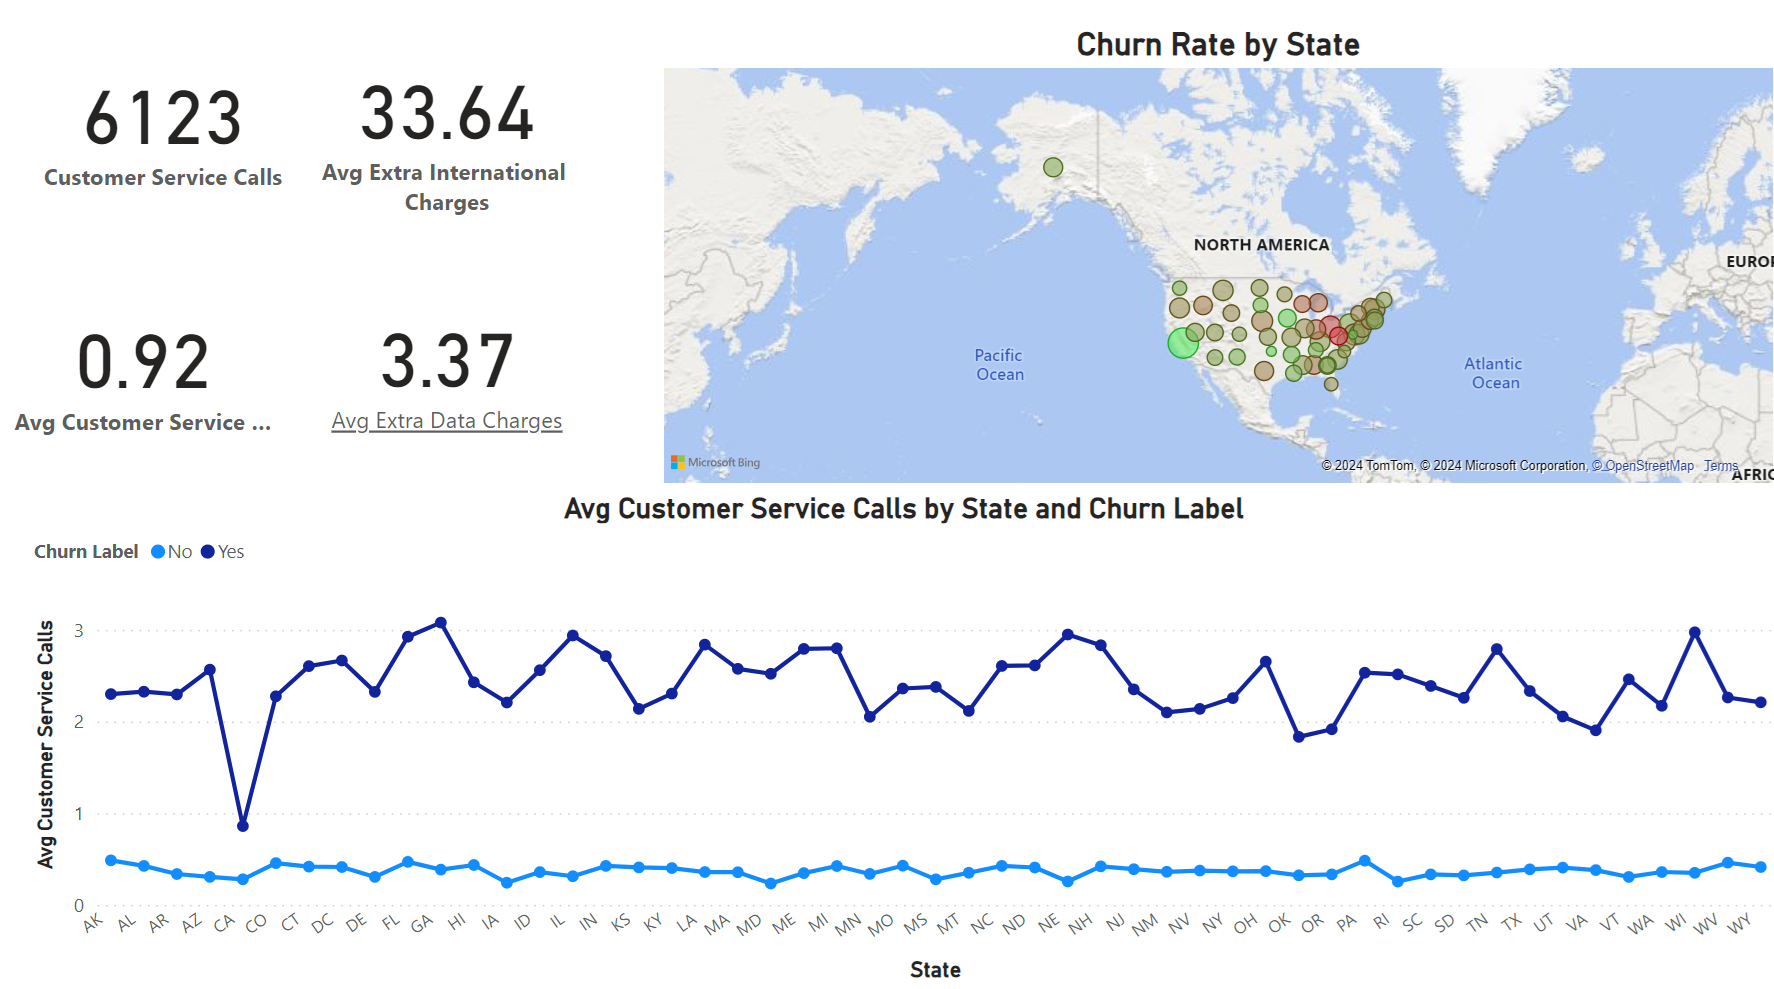

What the dashboard file says about the page in this screenshot:
{"tool":"powerbi","page":{"name":"Insight2","canvas":[1280,720],"ordinal":9},"visuals":[{"type":"card","fields":{"Values":["Sum(Databel - Data.Customer Service Calls)"]},"box":[27.6,6.1,194.4,182.2],"z":0},{"type":"card","fields":{"Values":["Databel - Data.Avg Customer Service Calls"]},"box":[12.2,186.8,194.4,168.4],"z":1000},{"type":"card","fields":{"Values":["Databel - Data.Avg Extra International Charges"]},"box":[222,0,211.3,186.8],"z":2000},{"type":"card","fields":{"Values":["Databel - Data.Avg Extra Data Charges"]},"box":[209.8,165.4,234.3,209.8],"z":3000},{"type":"lineChart","fields":{"Category":["Databel - Data.State"],"Y":["Databel - Data.Avg Customer Service Calls"],"Series":["Databel - Data.Churn Label"]},"box":[27.2,359.9,1252.8,355],"z":4000},{"type":"map","fields":{"Category":["Databel - Data.State"],"Size":["Databel - Data.Churn Rate"]},"box":[477.7,27.6,802.3,332.2],"z":5000}]}

Visuals, with their boxes in screenshot pixels (x1, y1, x2, y2), scaled from the page's 1280x720 canvas onto the 1774x989 screenshot:
card - Sum(Databel - Data.Customer Service Calls): 38,8,308,259
card - Databel - Data.Avg Customer Service Calls: 17,257,286,488
card - Databel - Data.Avg Extra International Charges: 308,0,601,257
card - Databel - Data.Avg Extra Data Charges: 291,227,615,515
lineChart - Databel - Data.State x Databel - Data.Avg Customer Service Calls: 38,494,1773,982
map - Databel - Data.State x Databel - Data.Churn Rate: 662,38,1773,494
